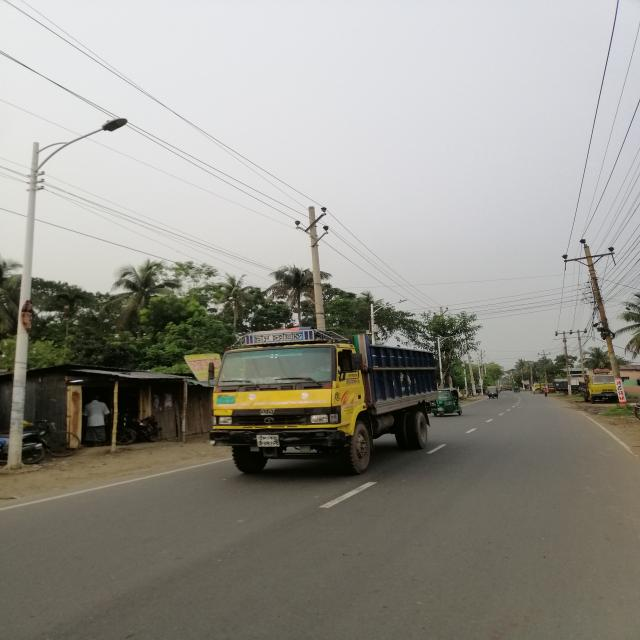Truck: (208, 322, 444, 478)
